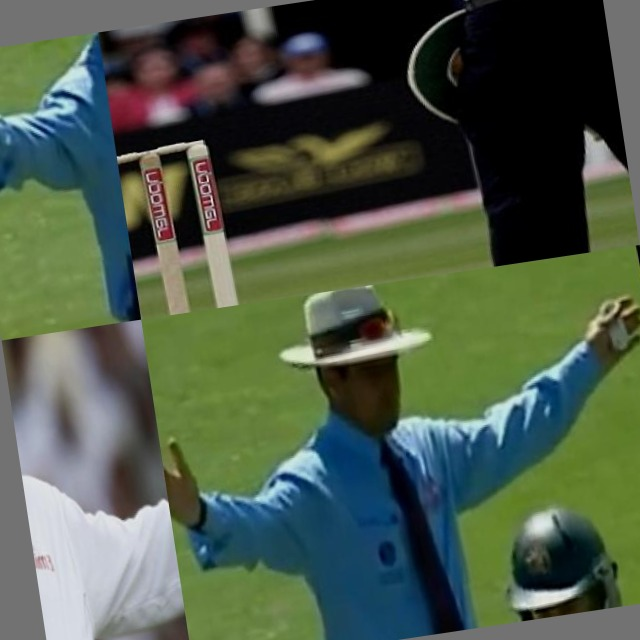Out: (348, 0, 640, 282)
Wide: (141, 245, 640, 640), (2, 320, 194, 640), (0, 32, 128, 255)
